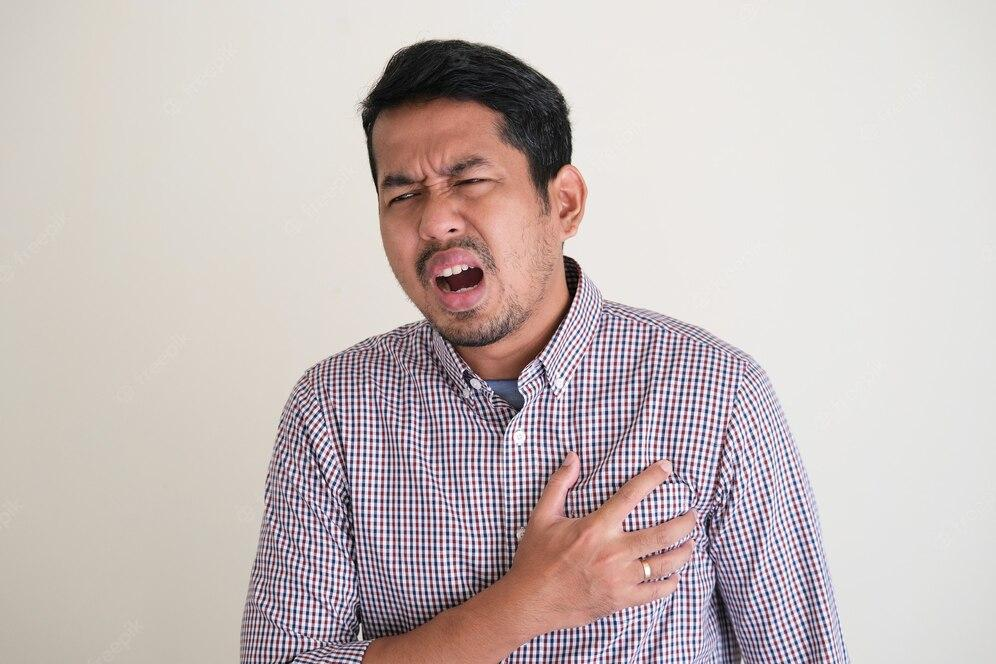pain: (377, 145, 509, 209)
